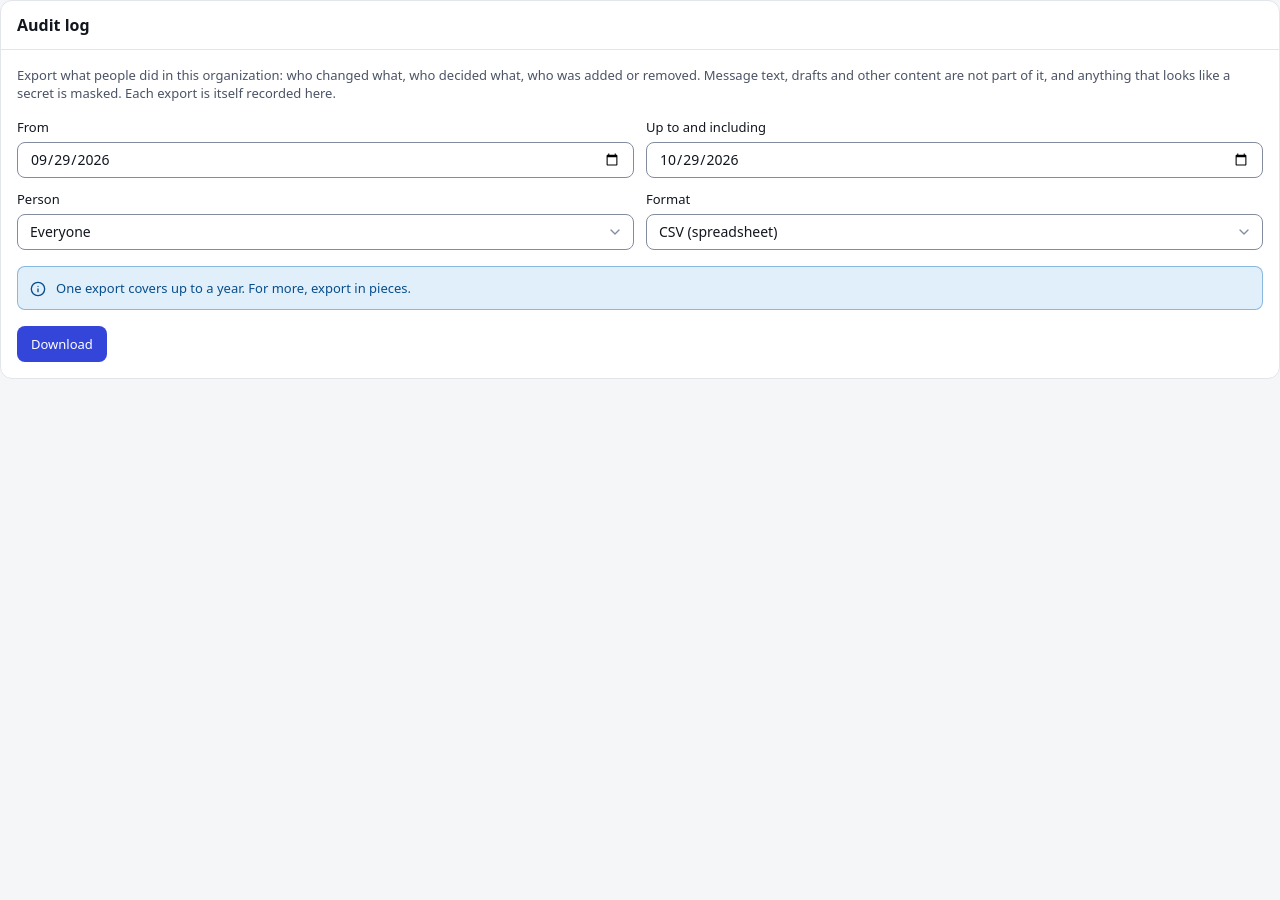
Scenario: the audit export › downloads the chosen range, format and person through the API
Select "Mia Member" in the dropdown labelled "Person": (326, 232) x1=17 y1=214 x2=634 y2=250
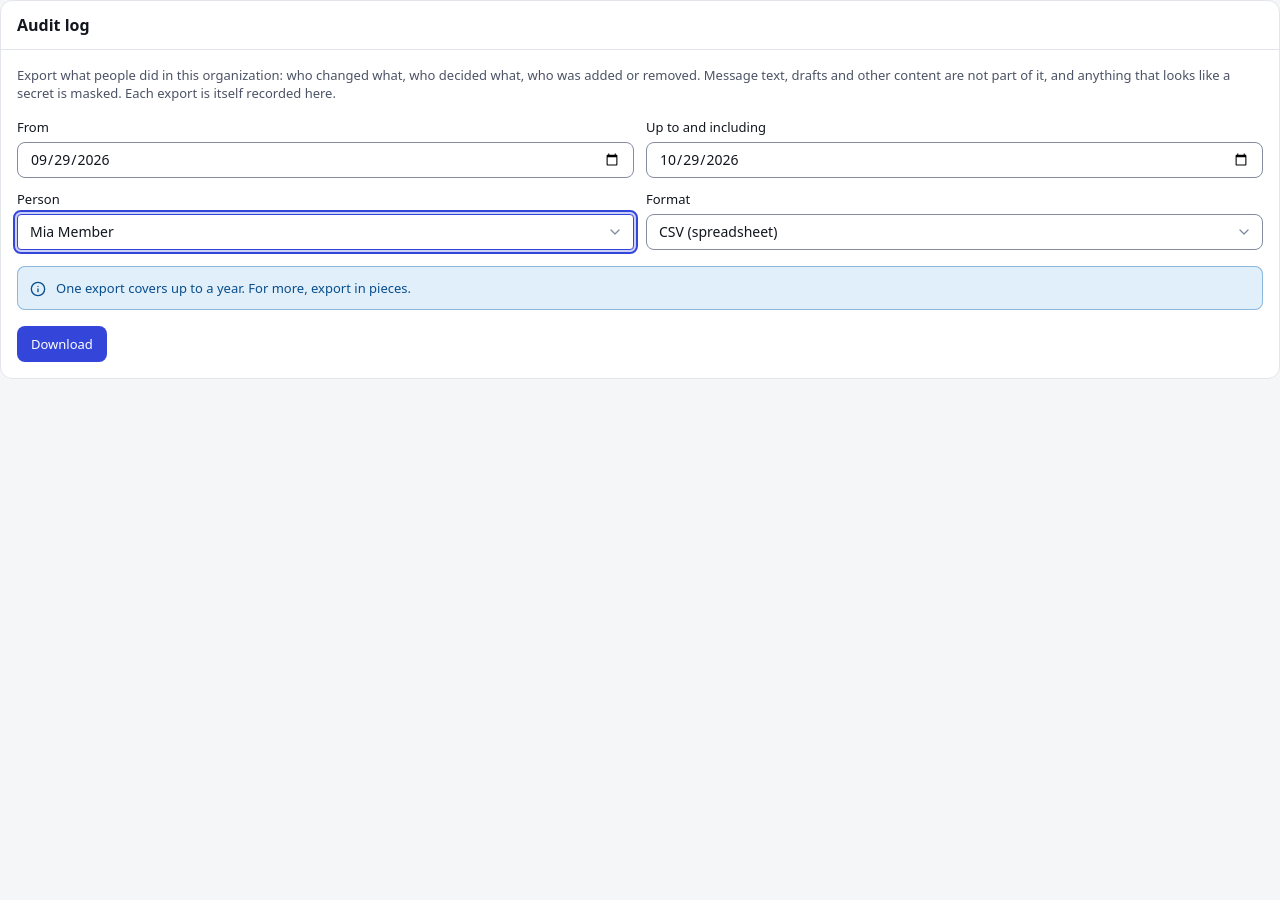
Select "JSON" in the dropdown labelled "Format": (954, 232) x1=646 y1=214 x2=1263 y2=250
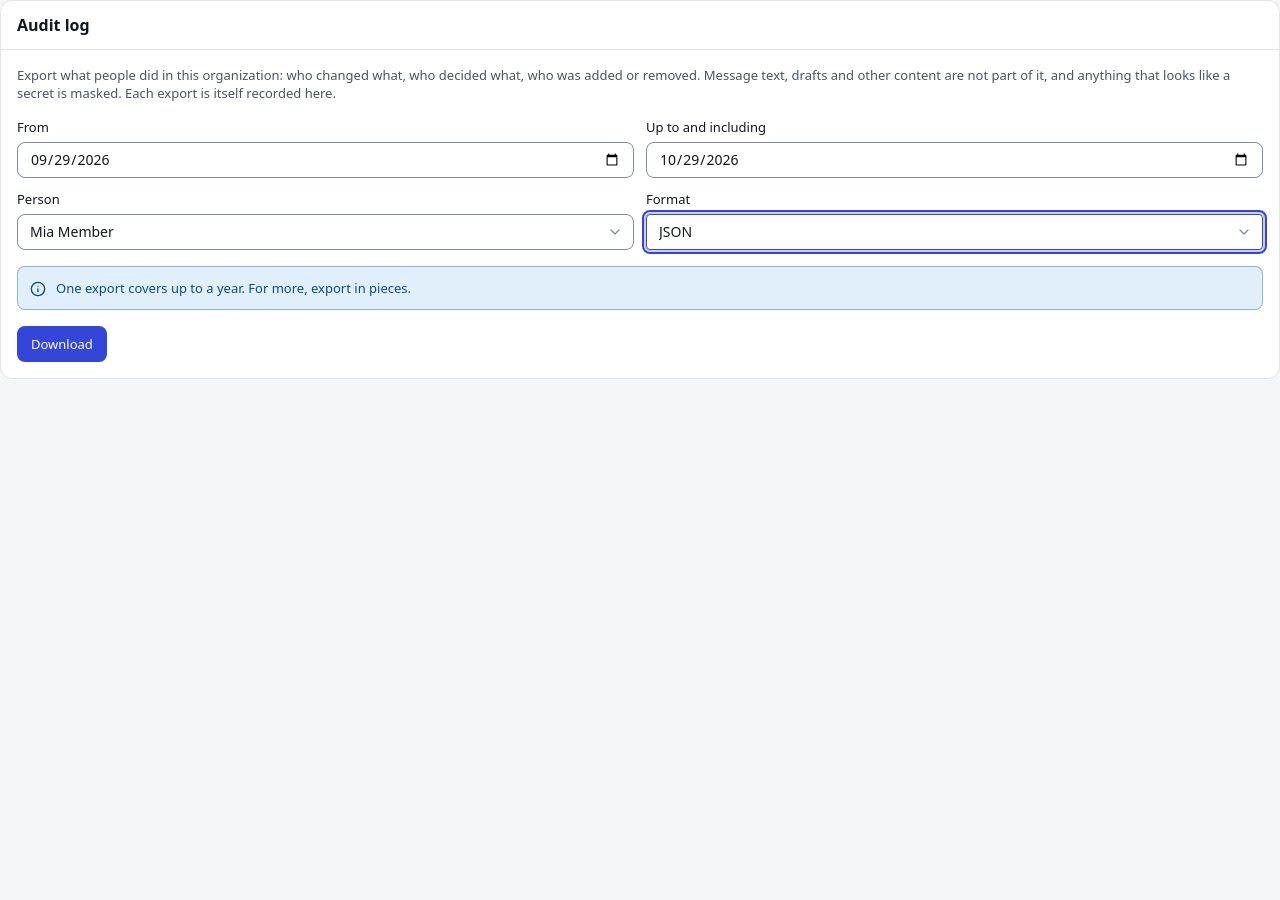
Click the button "Download": (62, 344) x1=17 y1=326 x2=107 y2=362
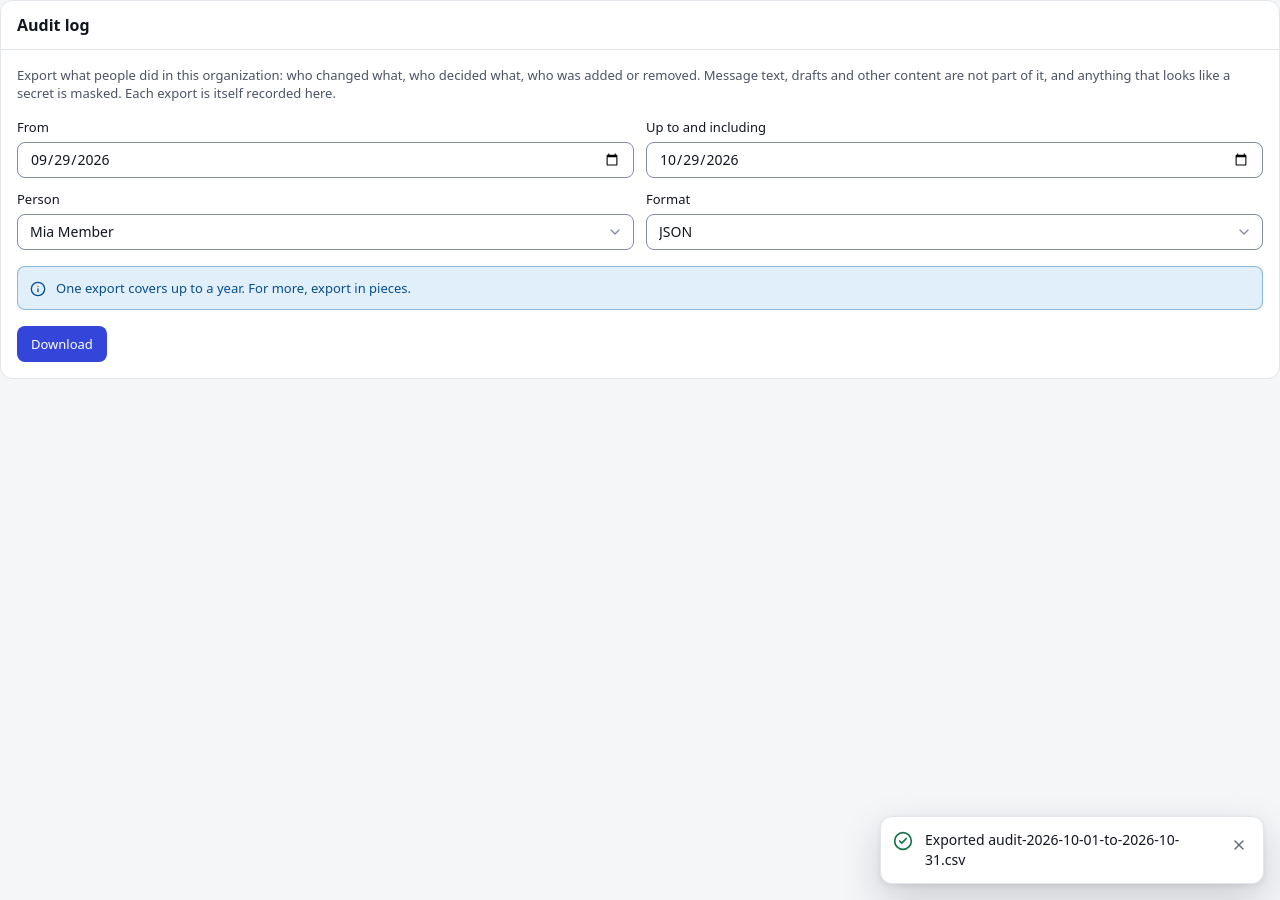
Expected: the text "Exported audit-2026-10-01-to-2026-10-31.csv" is shown, x1=925 y1=829 x2=1211 y2=871
